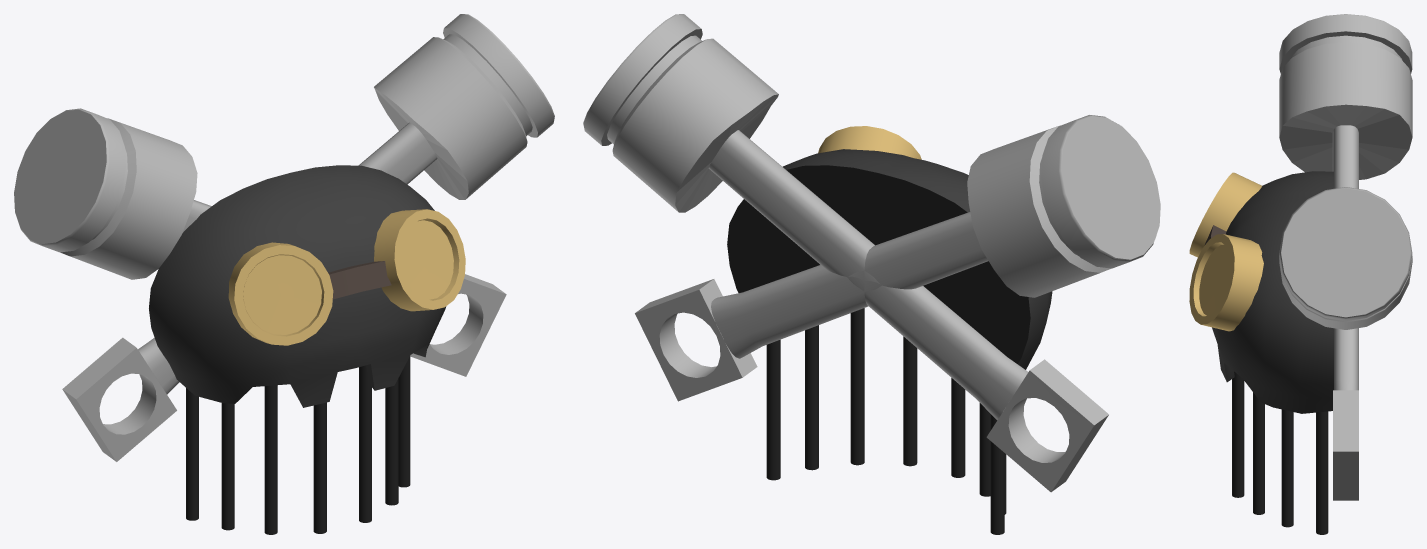
The model's file is skull_cross_pistons.fbx.
The picture shows the model from 3 angles, left to right: view 1: azimuth 30°, elevation 25°; view 2: azimuth 150°, elevation 25°; view 3: azimuth 270°, elevation 25°; orthographic projection. The views are drawn at different scales.
Visible parts, largest first — view 1: skull_cross_pistons; view 2: skull_cross_pistons; view 3: skull_cross_pistons.
Part boxes in pixels (x1,y1,x2,y2): skull_cross_pistons: (14,14,554,534); skull_cross_pistons: (583,14,1160,534); skull_cross_pistons: (1189,14,1412,534).
Bounding box in the file's own units: 267 × 209 × 110.
2 materials, 2 textured.
